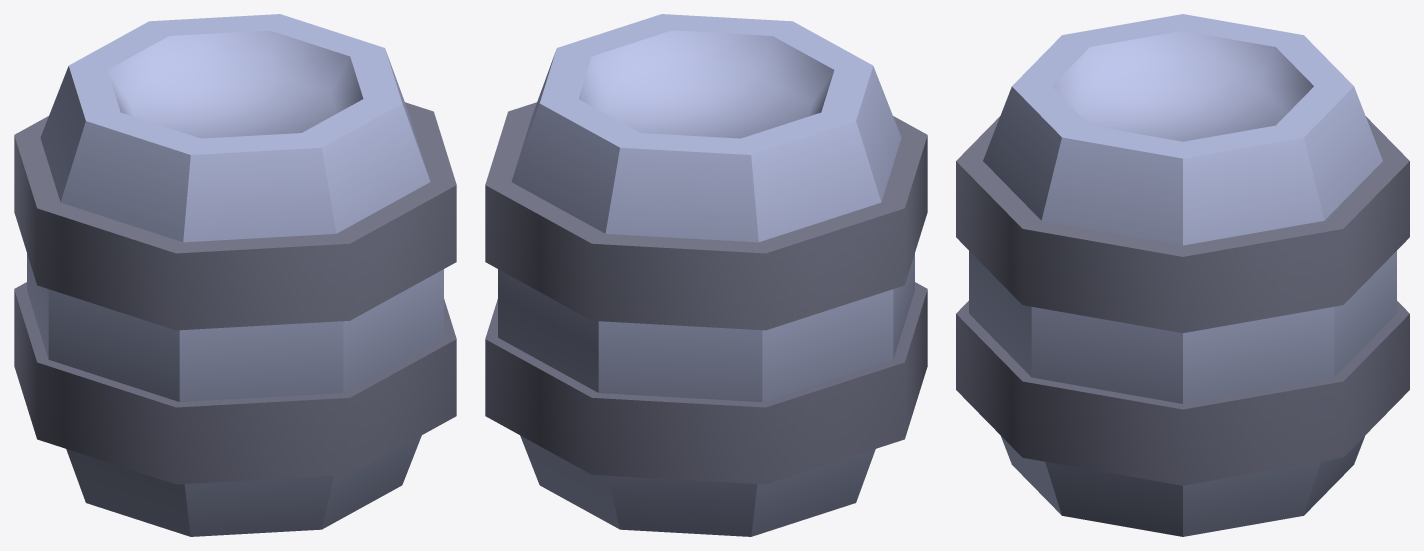
The model's file is barrel.glb.
3 renders of one model, left to right at view 1: azimuth 30°, elevation 25°; view 2: azimuth 150°, elevation 25°; view 3: azimuth 270°, elevation 25°, orthographic.
Visible parts, largest first — view 1: barrel; view 2: barrel; view 3: barrel.
Boxes of the visible parts, <box> form: barrel: <box>14,14,456,536</box>; barrel: <box>485,14,927,536</box>; barrel: <box>956,14,1409,536</box>.
Size of the model in its own units: 1.34 by 1.23 by 1.34.
Materials: 1 (1 with a texture image).
